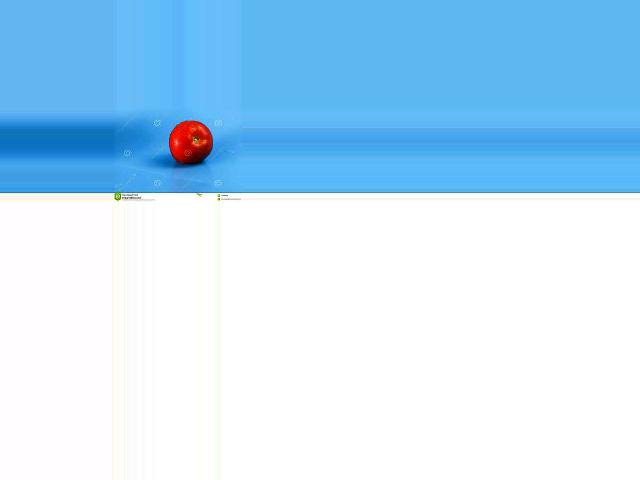tomato: (169, 121, 213, 163)
